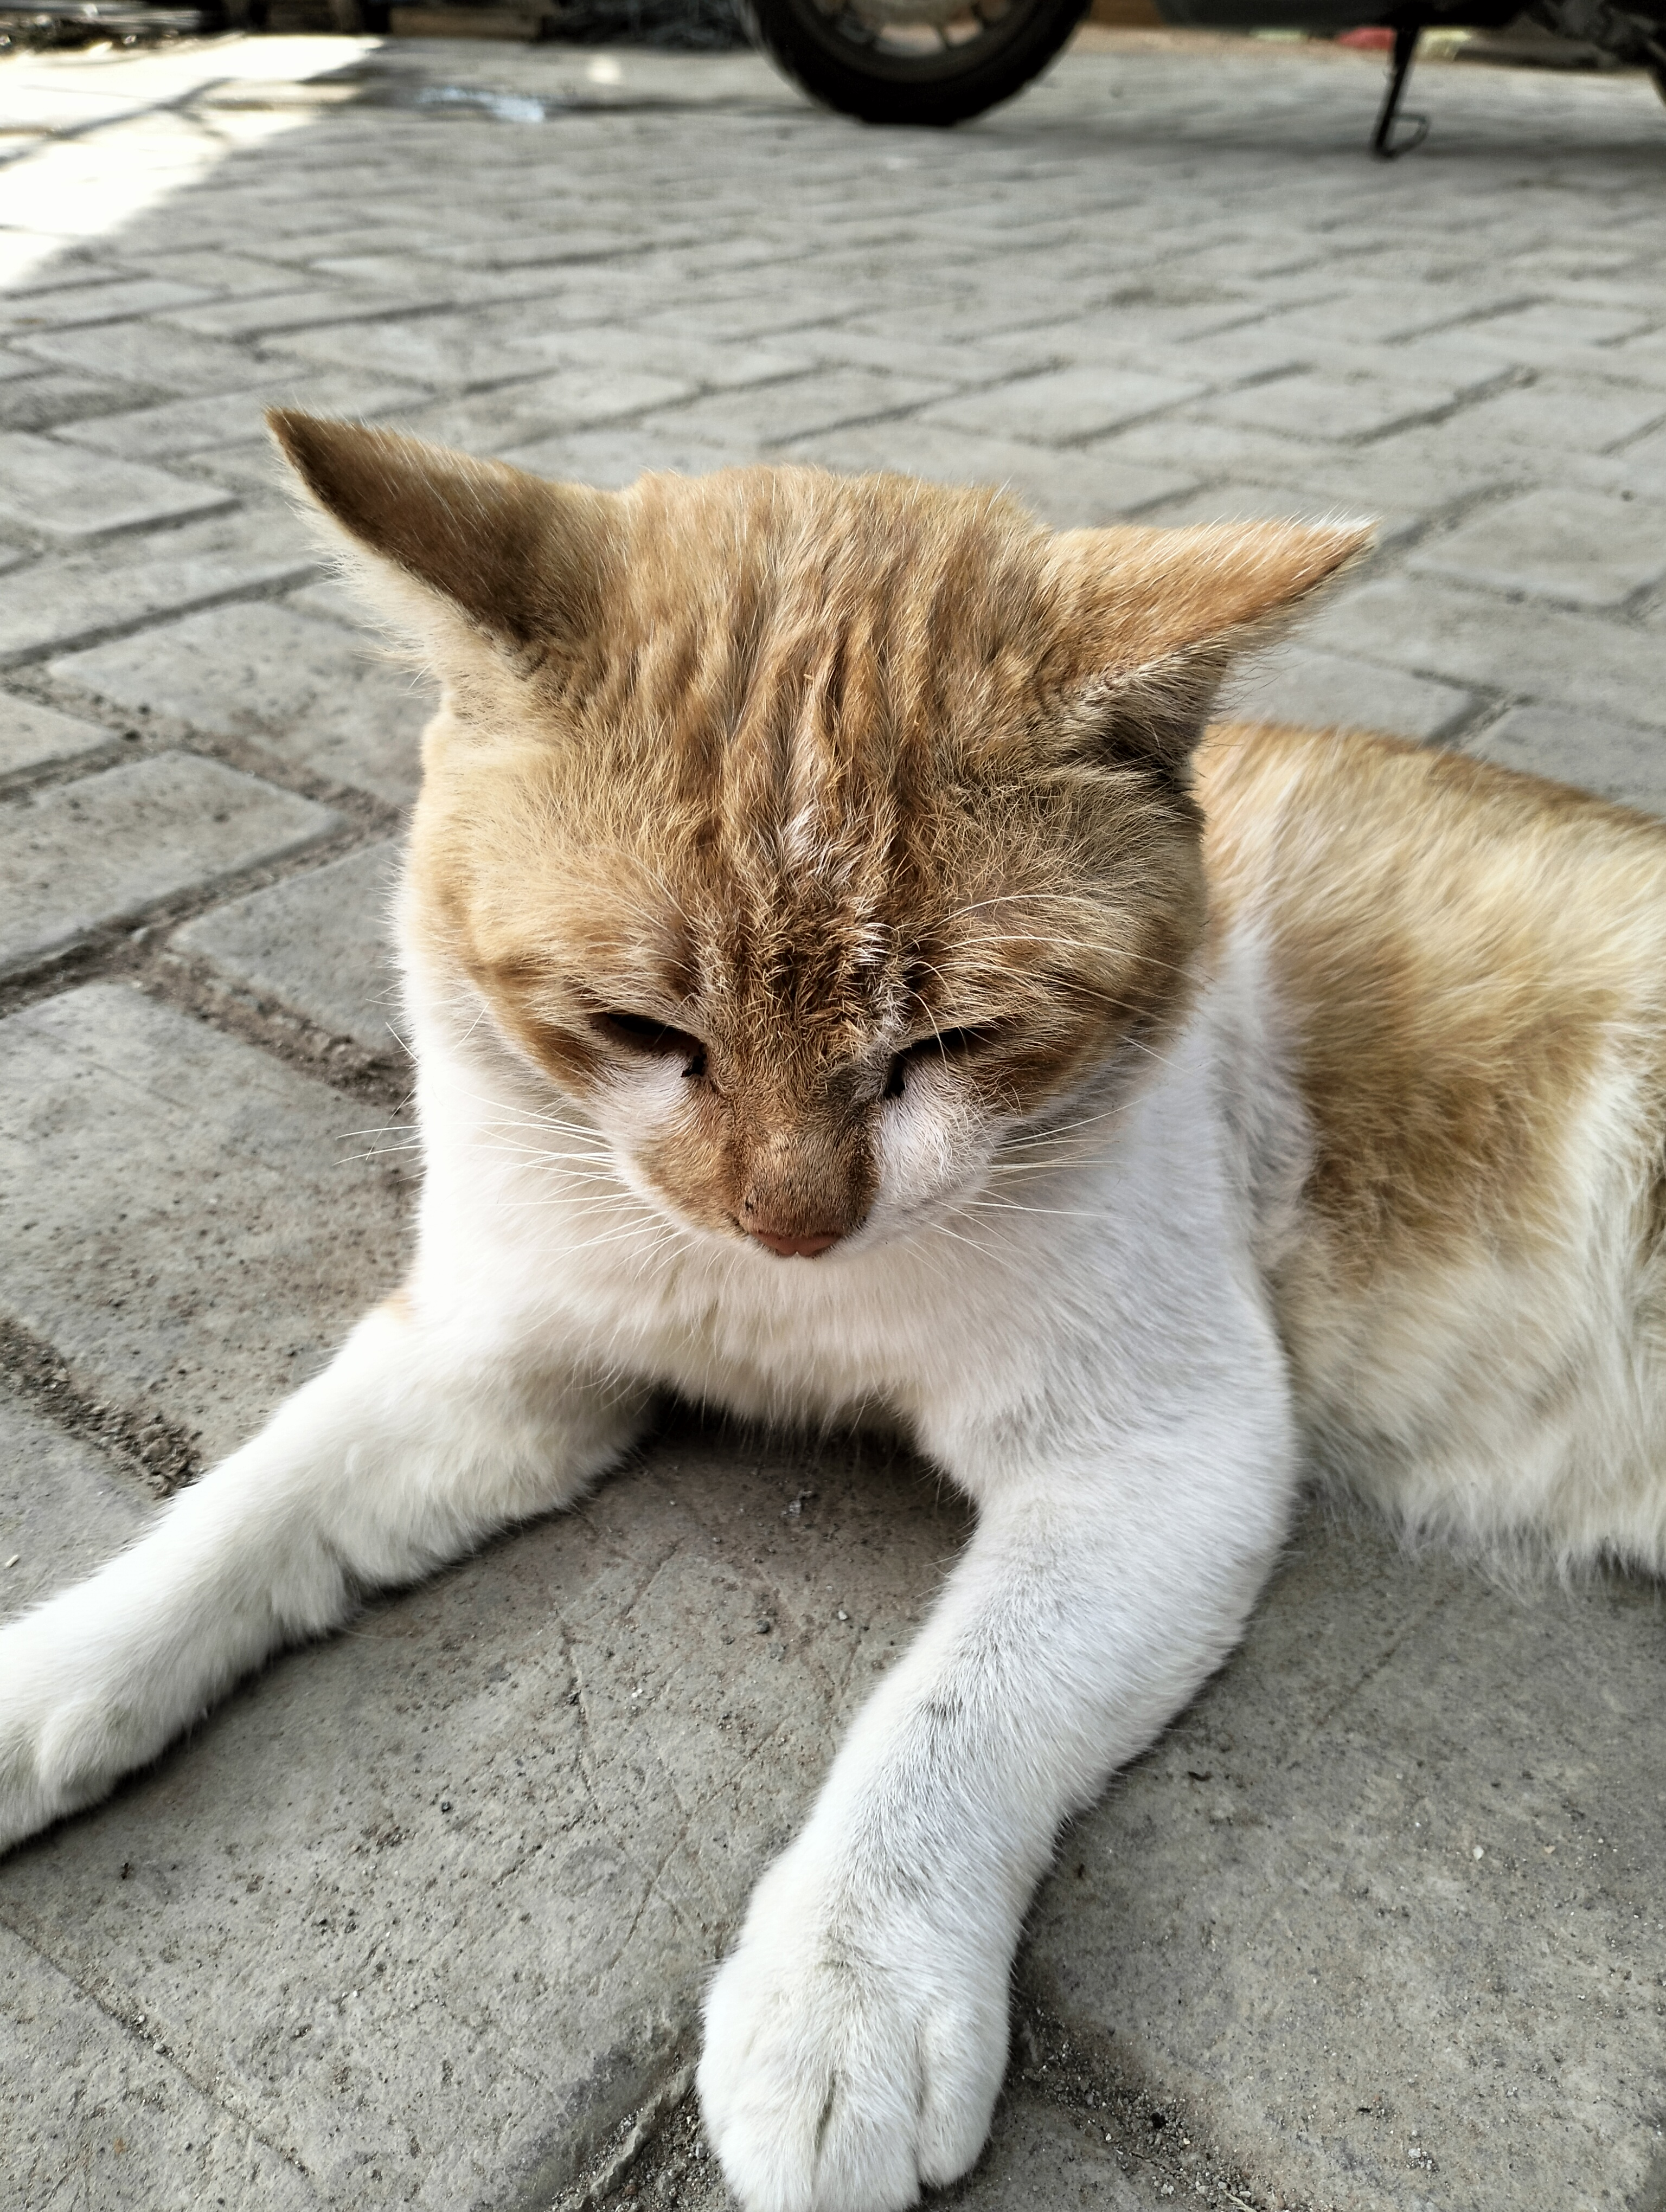oyen: (238, 359, 1414, 1385)
